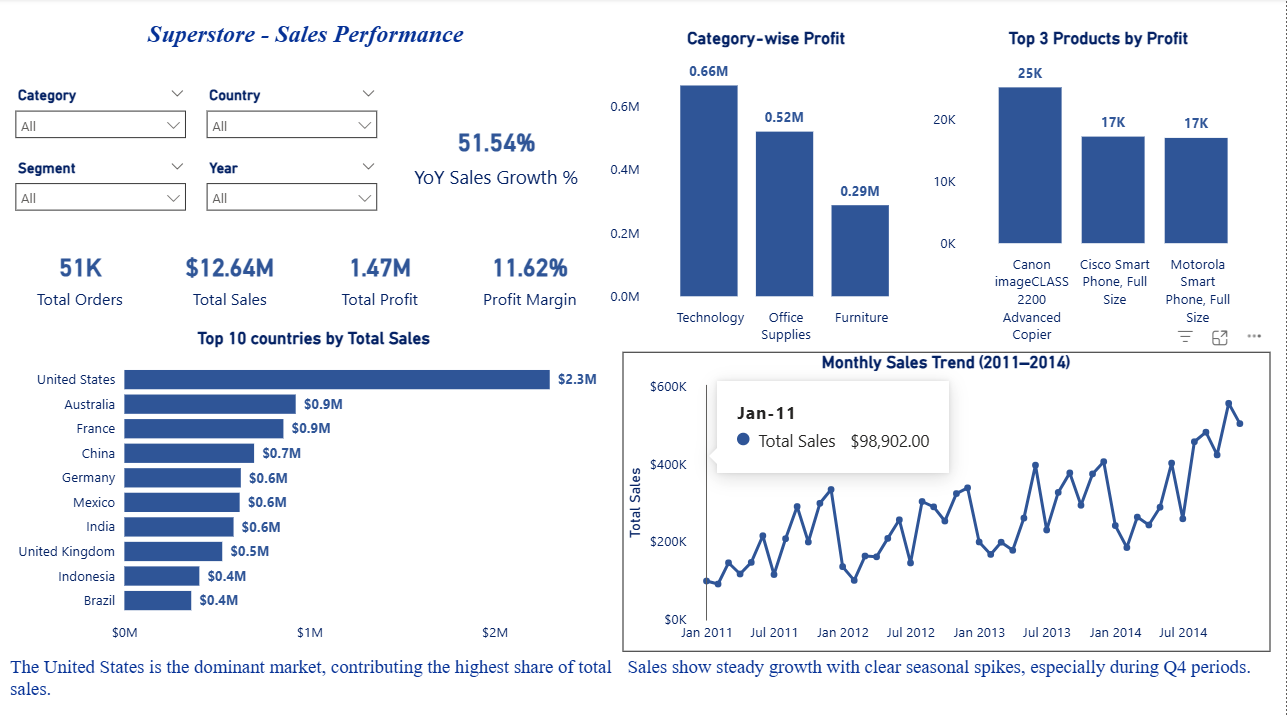

What the dashboard file says about the page in this screenshot:
{"tool":"powerbi","page":{"name":"Superstore","canvas":[1280,720],"ordinal":0},"visuals":[{"type":"card","fields":{"Values":["SuperStoreOrders.Total Orders"]},"box":[5,227.6,149.3,100.8],"z":0},{"type":"card","fields":{"Values":["SuperStoreOrders.Total Sales"]},"box":[154.3,227.6,149.3,100.8],"z":1000},{"type":"card","fields":{"Values":["SuperStoreOrders.Total Profit"]},"box":[303.5,227.6,149.3,100.8],"z":2000},{"type":"card","fields":{"Values":["SuperStoreOrders.Profit Margin"]},"box":[452.8,227.6,149.3,100.8],"z":3000},{"type":"lineChart","title":"Monthly Sales Trend (2011–2014)","fields":{"Y":["SuperStoreOrders.Total Sales"],"Category":["SuperStoreOrders.MonthStart"]},"box":[619.9,351.7,643.6,298.7],"z":4000},{"type":"textbox","box":[619.9,650.3,643.6,58.6],"z":5000},{"type":"clusteredBarChart","title":"Top 10 countries by Total Sales","fields":{"Category":["SuperStoreOrders.country"],"Y":["SuperStoreOrders.Total Sales"]},"box":[5,328.4,614.5,322.2],"z":6000},{"type":"slicer","fields":{"Values":["SuperStoreOrders.country"]},"box":[195.3,83.3,190.3,72.1],"z":7000},{"type":"slicer","fields":{"Values":["SuperStoreOrders.category"]},"box":[5,83.3,190.3,72.1],"z":8000},{"type":"slicer","fields":{"Values":["SuperStoreOrders.segment"]},"box":[5,155.5,190.3,72.1],"z":9000},{"type":"slicer","fields":{"Values":["SuperStoreOrders.year"]},"box":[195.3,155.5,190.3,72.1],"z":10000},{"type":"textbox","box":[5,650.6,614.5,58.5],"z":11000},{"type":"clusteredColumnChart","title":"Category-wise Profit","fields":{"Category":["SuperStoreOrders.category"],"Y":["SuperStoreOrders.Total Profit"]},"box":[602.1,29.9,320.9,322.2],"z":12000},{"type":"clusteredColumnChart","title":"Top 3 Products by Profit","fields":{"Category":["SuperStoreOrders.product_name"],"Y":["SuperStoreOrders.Total Profit"]},"box":[923.1,29.3,340.4,322.4],"z":13000},{"type":"textbox","box":[113.2,17.4,381.9,47.3],"z":14000},{"type":"card","title":"YoY Growth %","fields":{"Values":["SuperStoreOrders.YoY Sales Growth"]},"box":[385.6,83.3,216.4,144.3],"z":15000}]}

Visuals, with their boxes in screenshot pixels (x1, y1, x2, y2), scaled from the page's 1280x720 canvas onto the 1287x717 screenshot:
card - SuperStoreOrders.Total Orders: 5, 227, 155, 327
card - SuperStoreOrders.Total Sales: 155, 227, 305, 327
card - SuperStoreOrders.Total Profit: 305, 227, 455, 327
card - SuperStoreOrders.Profit Margin: 455, 227, 605, 327
"Monthly Sales Trend (2011–2014)" lineChart: 623, 350, 1270, 648
textbox: 623, 648, 1270, 706
"Top 10 countries by Total Sales" clusteredBarChart: 5, 327, 623, 648
slicer - SuperStoreOrders.country: 196, 83, 388, 155
slicer - SuperStoreOrders.category: 5, 83, 196, 155
slicer - SuperStoreOrders.segment: 5, 155, 196, 227
slicer - SuperStoreOrders.year: 196, 155, 388, 227
textbox: 5, 648, 623, 706
"Category-wise Profit" clusteredColumnChart: 605, 30, 928, 351
"Top 3 Products by Profit" clusteredColumnChart: 928, 29, 1270, 350
textbox: 114, 17, 498, 64
"YoY Growth %" card: 388, 83, 605, 227
